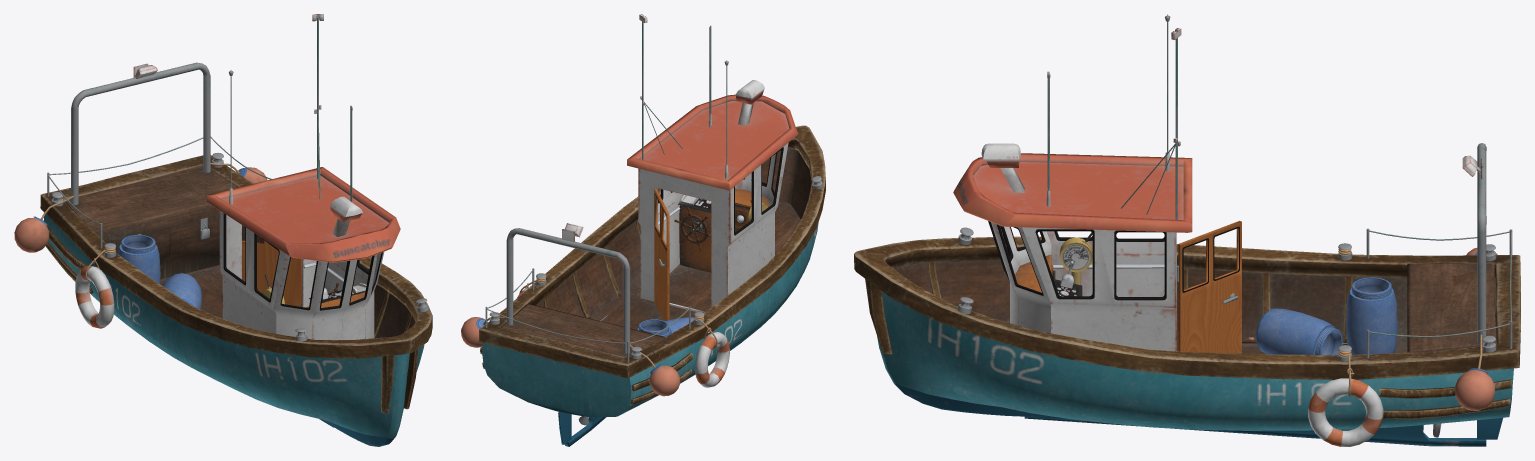
Rendered from fishing_ship_crazyyuan.glb.
The picture shows the model from 3 angles, left to right: view 1: azimuth 30°, elevation 25°; view 2: azimuth 150°, elevation 25°; view 3: azimuth 270°, elevation 25°; orthographic projection. The views are drawn at different scales.
Parts seen in each view (by area): view 1: Sketchfab_Fishing_Ship_0, Sketchfab_Boat_Interior_0; view 2: Sketchfab_Fishing_Ship_0, Sketchfab_Boat_Interior_0; view 3: Sketchfab_Fishing_Ship_0, Sketchfab_Boat_Interior_0.
Boxes of the visible parts, box(x1,y1,x2,y2) form: Sketchfab_Fishing_Ship_0: box(40, 14, 432, 446); Sketchfab_Boat_Interior_0: box(14, 163, 366, 328); Sketchfab_Fishing_Ship_0: box(479, 14, 825, 446); Sketchfab_Boat_Interior_0: box(461, 188, 770, 396); Sketchfab_Fishing_Ship_0: box(854, 14, 1520, 446); Sketchfab_Boat_Interior_0: box(1015, 232, 1497, 446).
Bounding box in the file's own units: 422 × 619 × 848.
3 materials, 2 textured.
